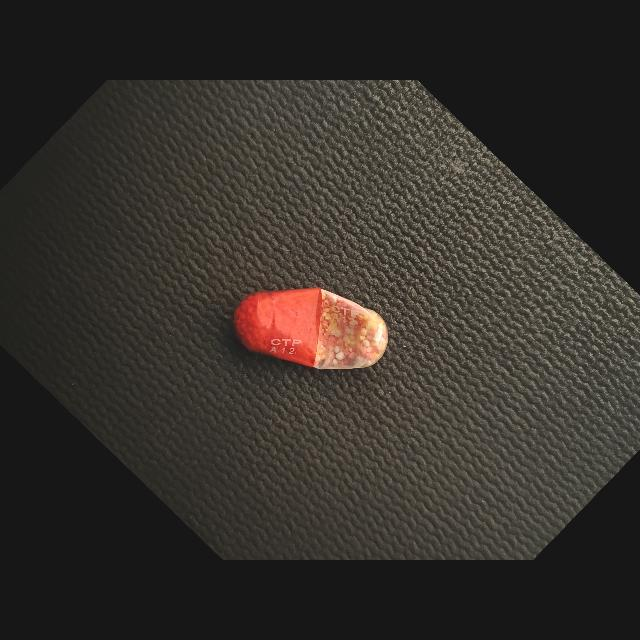Defective Capsule: (234, 288, 388, 370)
